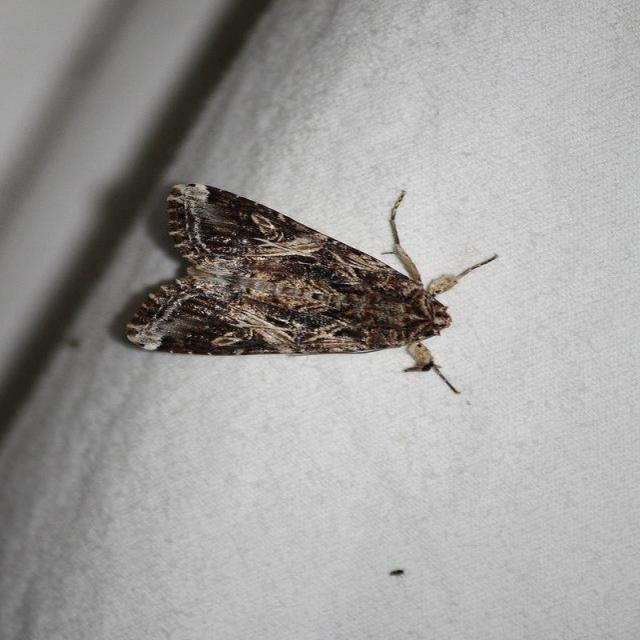army worm: (113, 171, 502, 401)
